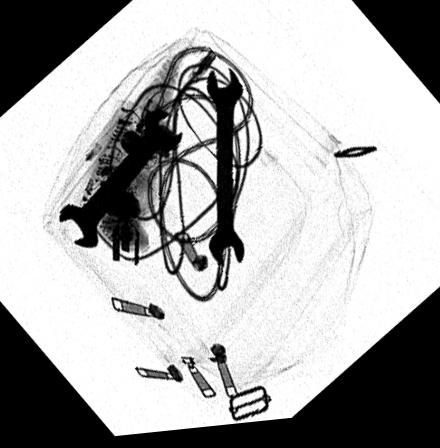Wrench: (54, 107, 185, 253), (204, 71, 244, 277)
